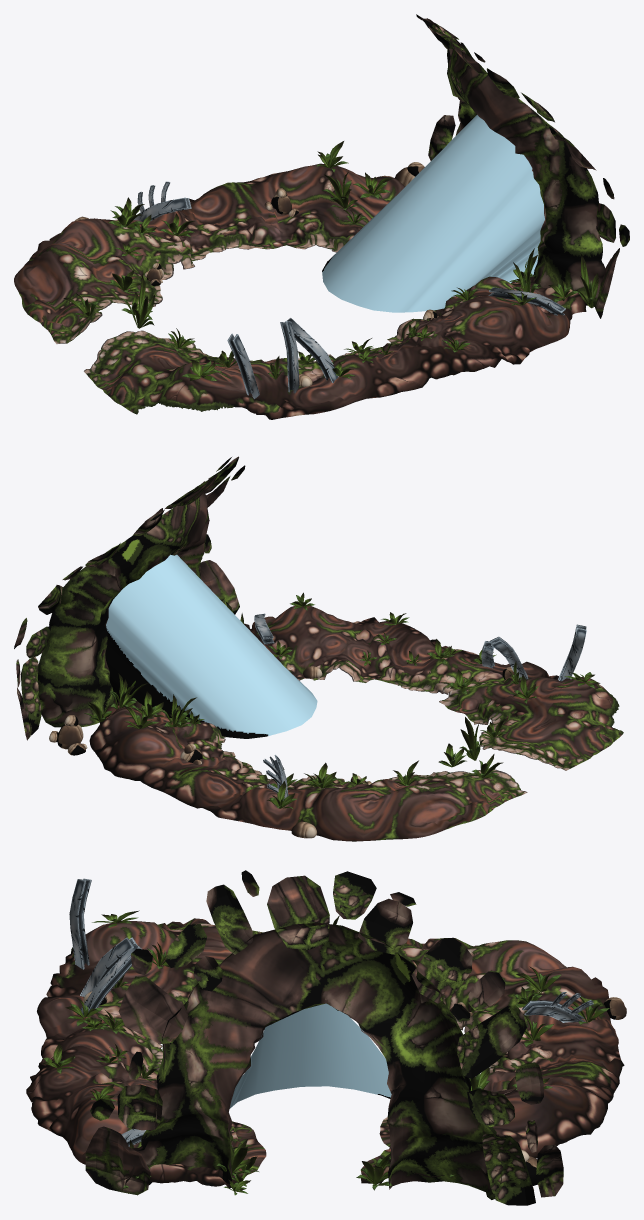
Rendered from cave.dae.
The picture shows the model from 3 angles, top to bottom: view 1: azimuth 30°, elevation 25°; view 2: azimuth 150°, elevation 25°; view 3: azimuth 270°, elevation 25°; orthographic projection. The views are drawn at different scales.
Visible parts, largest first — view 1: map, gleam, arch, grass, girder, stone; view 2: map, gleam, arch, grass, girder, stone; view 3: arch, map, gleam, grass, girder, stone.
Part boxes in pixels (x1,y1,x2,y2): map: (14,163,586,419); gleam: (322,115,544,312); arch: (416,14,629,318); grass: (63,141,598,380); girder: (134,181,565,398); stone: (74,162,437,386); map: (89,604,623,841); gleam: (105,554,317,738); arch: (14,456,245,740); grass: (84,592,600,809); girder: (254,613,586,806); stone: (49,666,514,838); arch: (85,870,563,1205); map: (26,918,624,1188); gleam: (229,1003,391,1187); grass: (43,910,609,1195); girder: (69,878,593,1146); stone: (83,991,626,1189).
Bounding box in the file's own units: 1.25 × 1.14 × 0.5762.
Materials: 6 (6 with a texture image).
